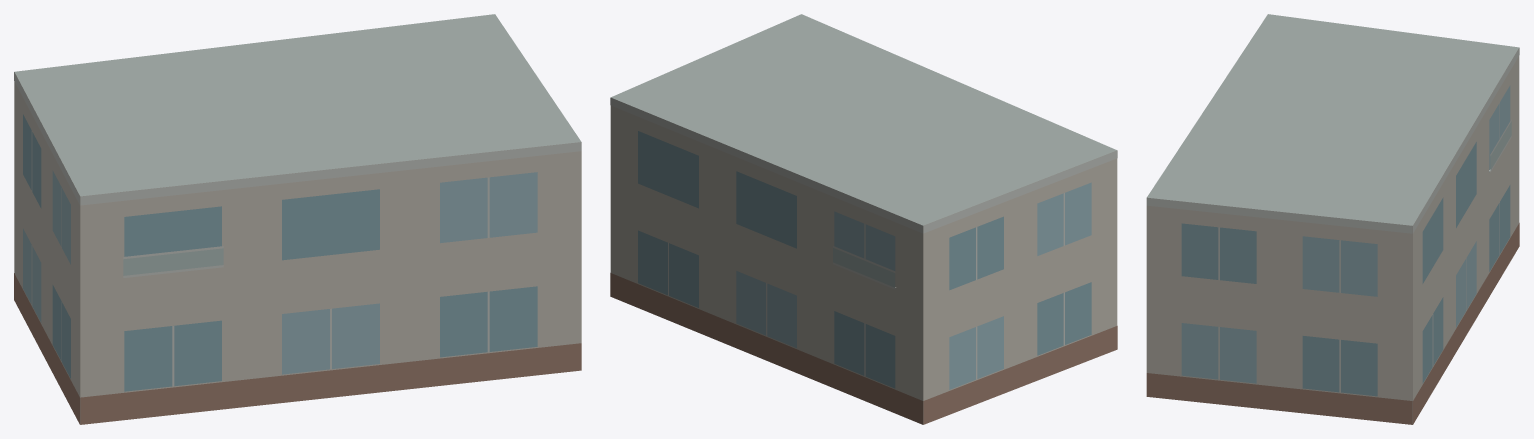
Rendered from survey-upis-32919811.glb.
3 renders of one model, left to right at view 1: azimuth 30°, elevation 25°; view 2: azimuth 150°, elevation 25°; view 3: azimuth 270°, elevation 25°, orthographic. The views are drawn at different scales.
Visible parts, largest first — view 1: survey-upis-32919811.tmp; view 2: survey-upis-32919811.tmp; view 3: survey-upis-32919811.tmp.
Part boxes in pixels (left/top/right/bottom): survey-upis-32919811.tmp: left=14, top=14, right=581, bottom=424; survey-upis-32919811.tmp: left=610, top=14, right=1117, bottom=424; survey-upis-32919811.tmp: left=1146, top=14, right=1519, bottom=424.
Bounding box in the file's own units: 13.93 × 6.1 × 10.36.
